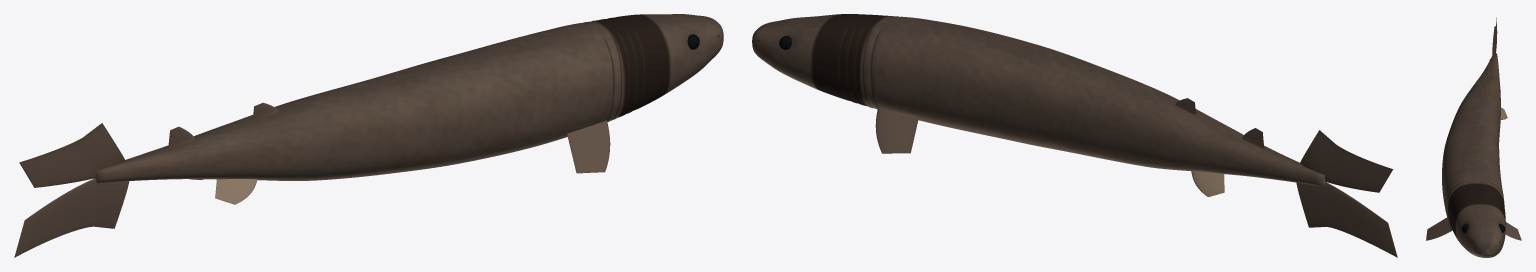
Rendered from cookiecutter_shark.glb.
The picture shows the model from 3 angles, left to right: view 1: azimuth 30°, elevation 25°; view 2: azimuth 150°, elevation 25°; view 3: azimuth 270°, elevation 25°; orthographic projection. The views are drawn at different scales.
Visible parts, largest first — view 1: CookiecutterShark_Body, CookiecutterShark_Fins; view 2: CookiecutterShark_Body, CookiecutterShark_Fins; view 3: CookiecutterShark_Body, CookiecutterShark_Fins, CookiecutterShark_Eyes.
Part boxes in pixels (x1=…): CookiecutterShark_Body: x1=94, y1=14, x2=723, y2=183; CookiecutterShark_Fins: x1=14, y1=102, x2=610, y2=257; CookiecutterShark_Body: x1=752, y1=14, x2=1326, y2=186; CookiecutterShark_Fins: x1=875, y1=98, x2=1397, y2=257; CookiecutterShark_Body: x1=1442, y1=53, x2=1505, y2=257; CookiecutterShark_Fins: x1=1426, y1=17, x2=1521, y2=240; CookiecutterShark_Eyes: x1=1462, y1=223, x2=1505, y2=232.
Bounding box in the file's own units: 0.45 × 0.0733 × 0.0841.
3 materials, 1 textured.
